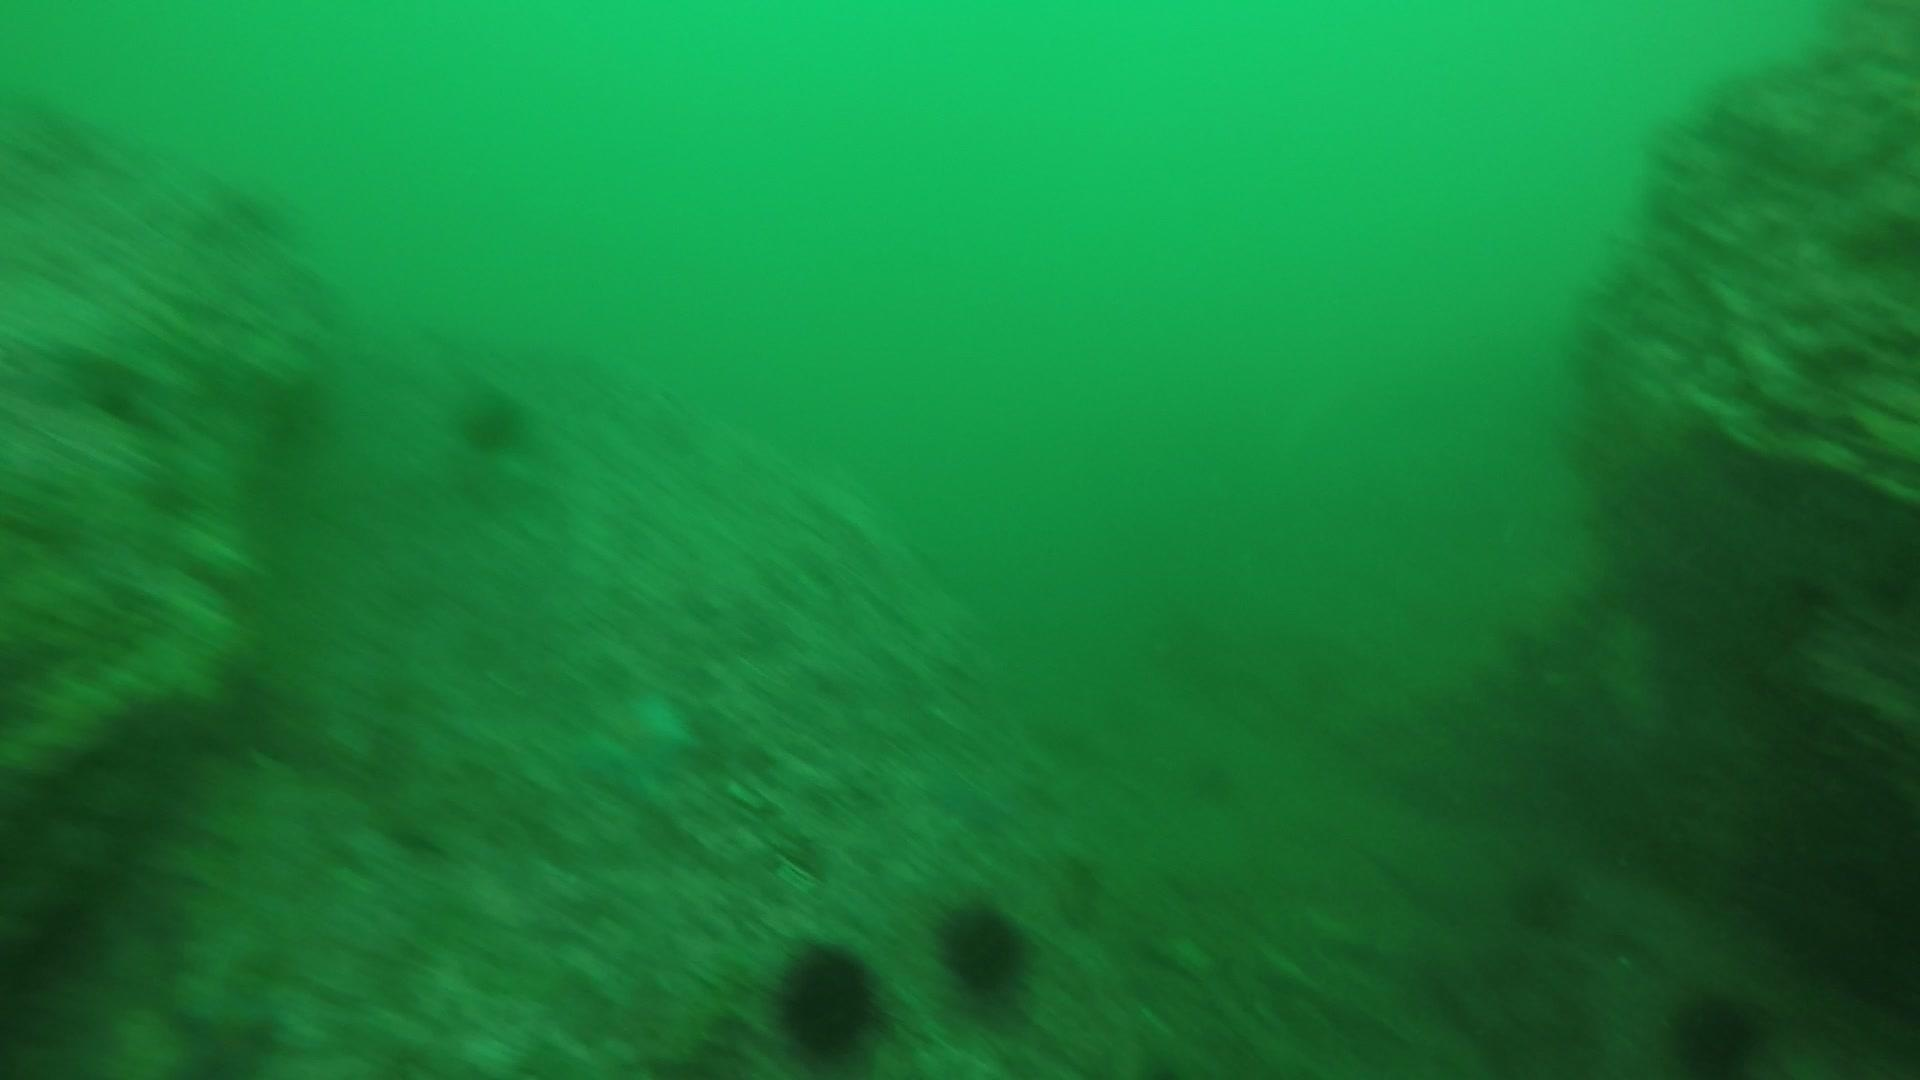echinus: (767, 938, 890, 1065), (930, 893, 1038, 1005), (1662, 984, 1768, 1073), (450, 381, 534, 458), (1505, 862, 1585, 938)
starfish: (568, 682, 702, 802), (164, 985, 289, 1075)
